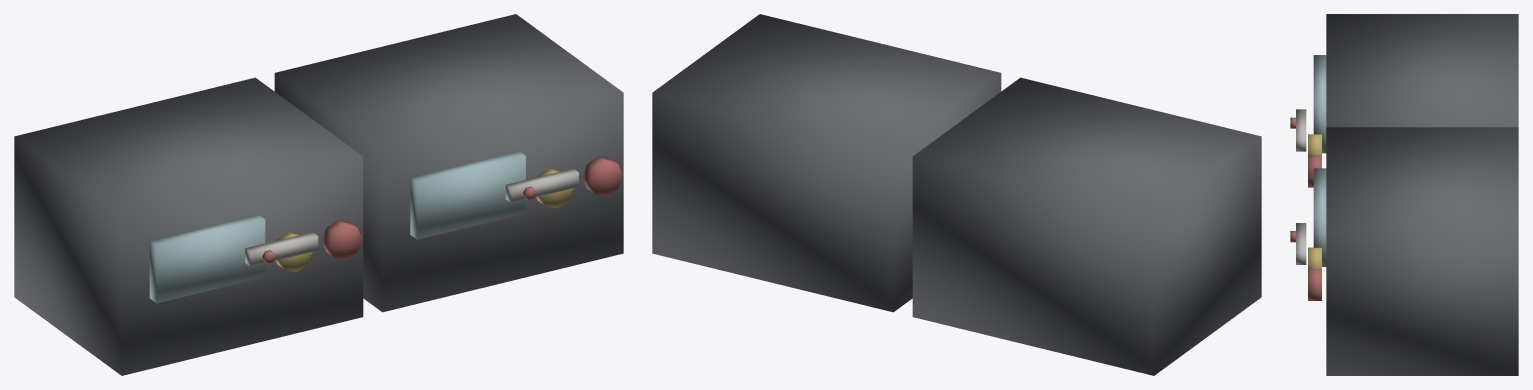
File: bench_power_supply__cluster.glb
3 views of the same model, side by side, from view 1: azimuth 30°, elevation 25°; view 2: azimuth 150°, elevation 25°; view 3: azimuth 270°, elevation 25° (orthographic). The views are drawn at different scales.
Visible parts, largest first — view 1: world; view 2: world; view 3: world.
Boxes of the visible parts, left/top/right/bottom form: world: left=14, top=14, right=623, bottom=375; world: left=652, top=14, right=1261, bottom=375; world: left=1290, top=14, right=1518, bottom=375.
Bounding box in the file's own units: 0.9152 × 0.28 × 0.4035.
